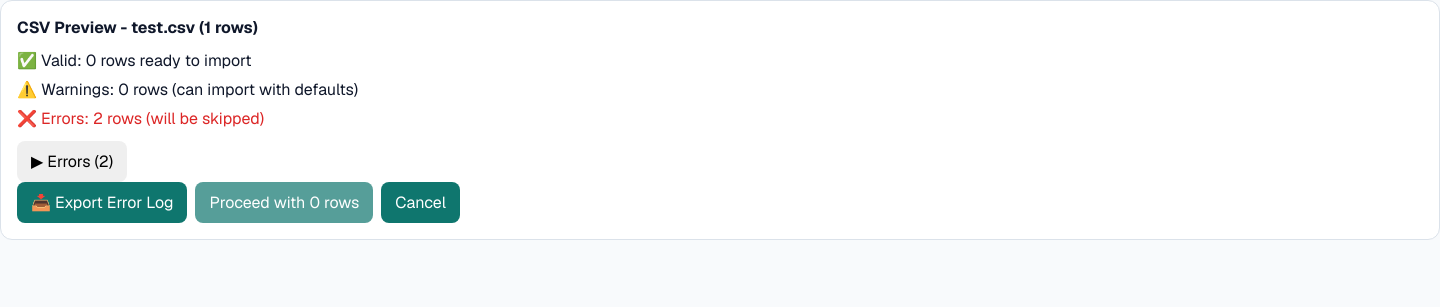
Test case: CsvPreview (Upload Form) › should display validation errors and disable proceed button
Expected: the text "❌ Errors: 2 rows (will be skipped)" is shown, [17,108,264,129]
Click the button "▶ Errors (2)": (72, 162) [17,141,127,182]
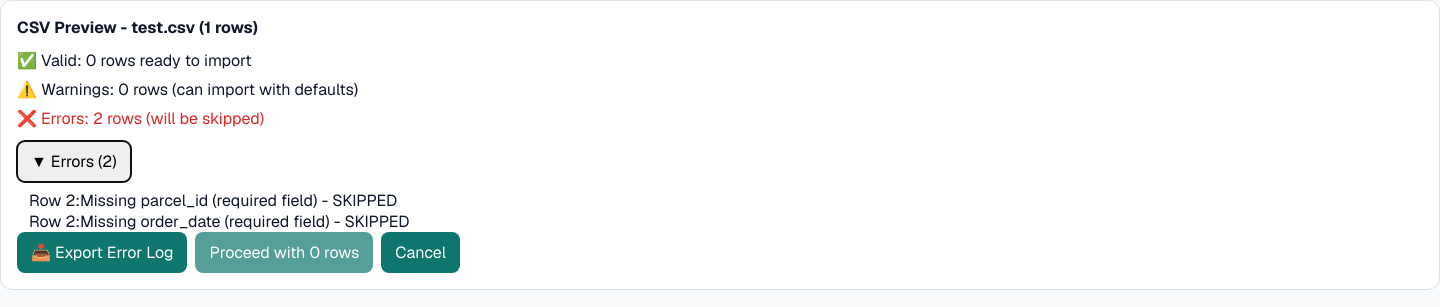
Expected: the button "Proceed with 0 rows" is disabled, [196,232,373,273]
Result: the text "Missing parcel_id (required field) - SKIPPED" is shown at [80,190,397,211]
